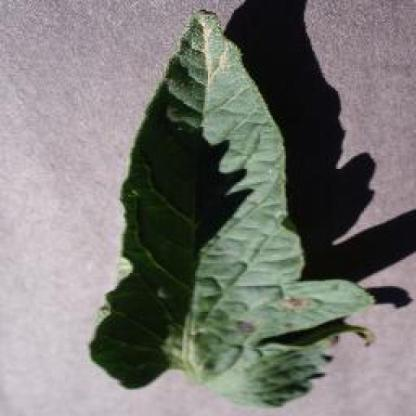Tomato_Blight: (89, 9, 375, 402)
